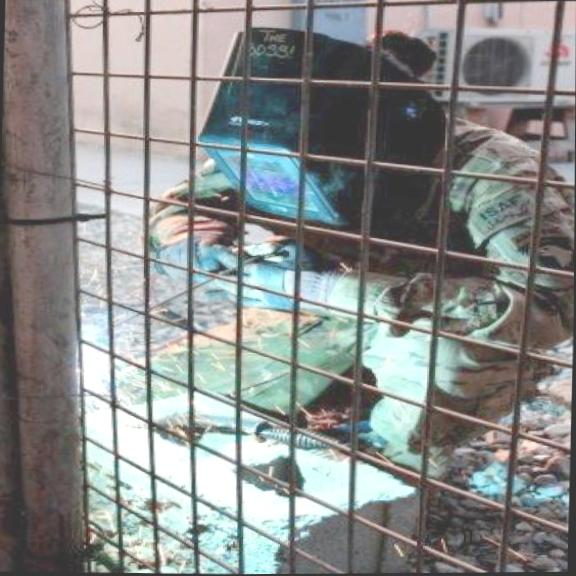no_safety_vest: (190, 110, 570, 344)
